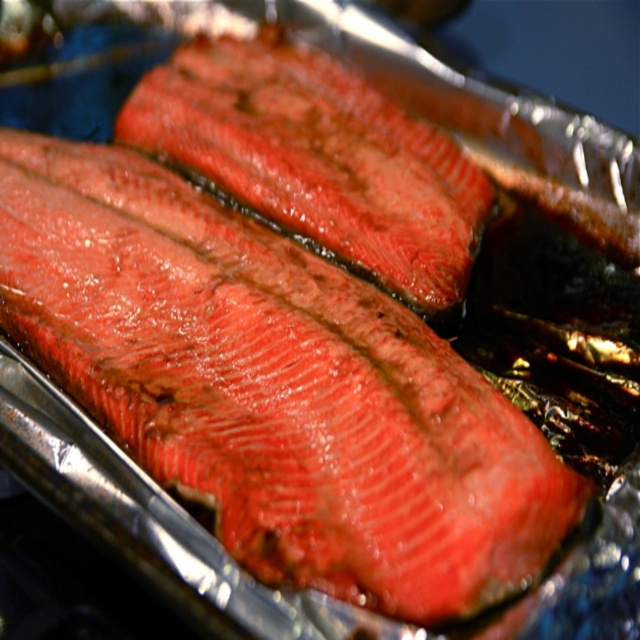Fish: (0, 127, 595, 621), (112, 12, 496, 318)
